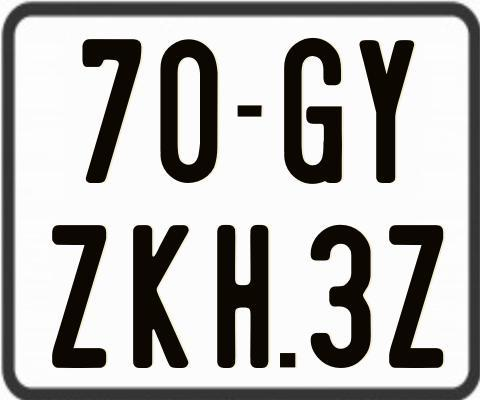0: (160, 36, 218, 184)
3: (309, 224, 374, 370)
7: (80, 38, 141, 182)
G: (283, 36, 342, 188)
H: (217, 223, 271, 371)
K: (132, 224, 192, 370)
Y: (360, 37, 420, 181)
Z: (49, 225, 106, 374), (387, 223, 442, 366)
